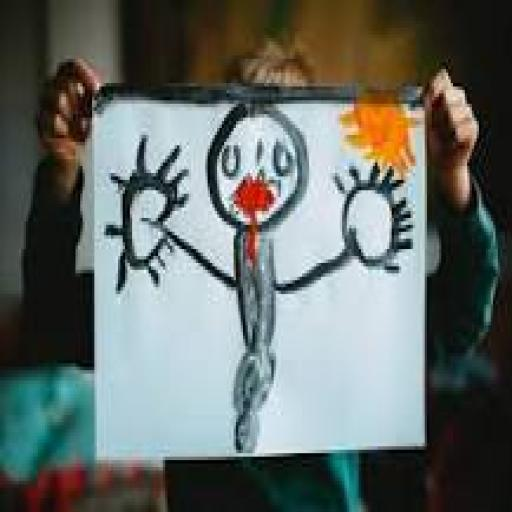person: (110, 100, 426, 457)
